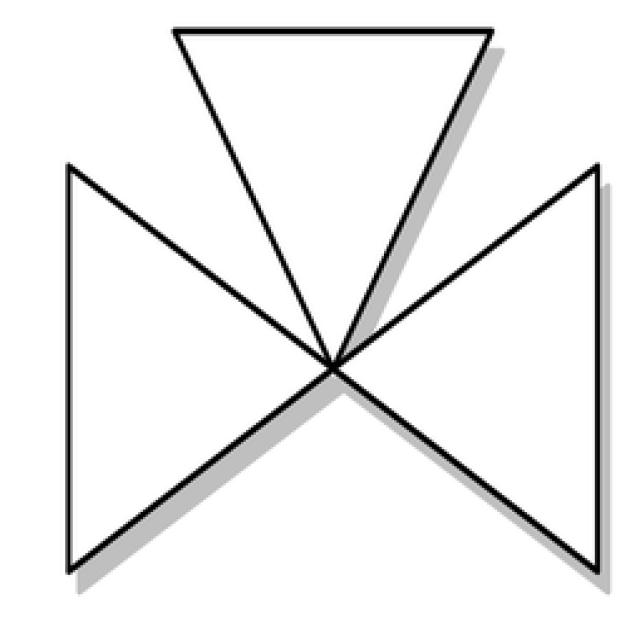3-way Valve: (337, 164, 600, 573), (176, 30, 494, 367), (71, 167, 335, 570)
